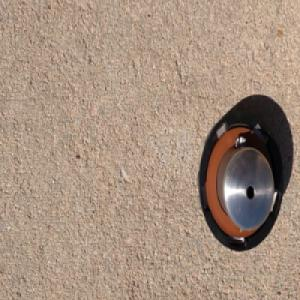FuelCap: (196, 109, 285, 253)
